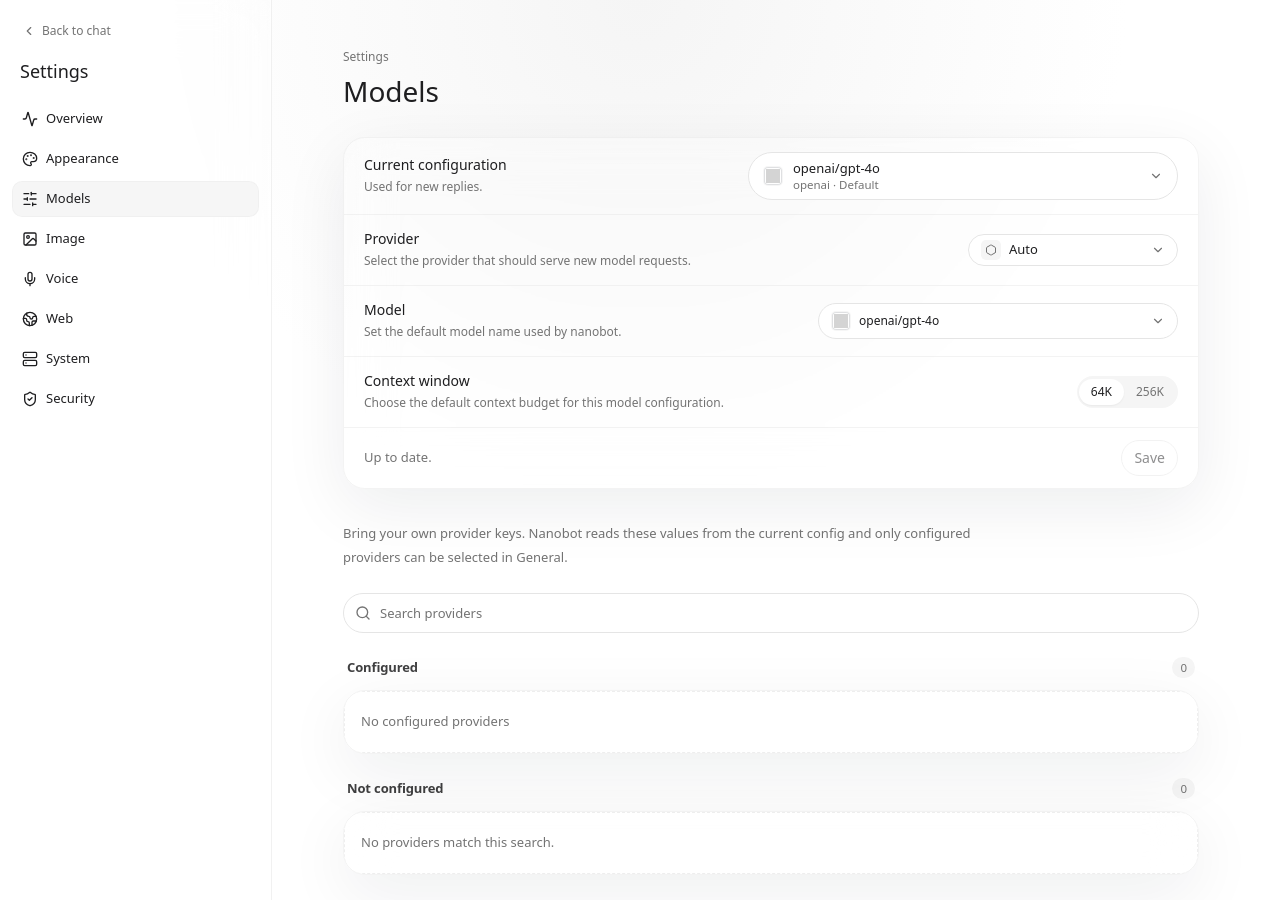
it: SettingsView Apps catalog › can close the new configuration dialog without trapping the settings page
Step 1. Press the mouse on the button with aria-label "Current configuration" → [836, 168], box x1=748 y1=152 x2=1178 y2=200
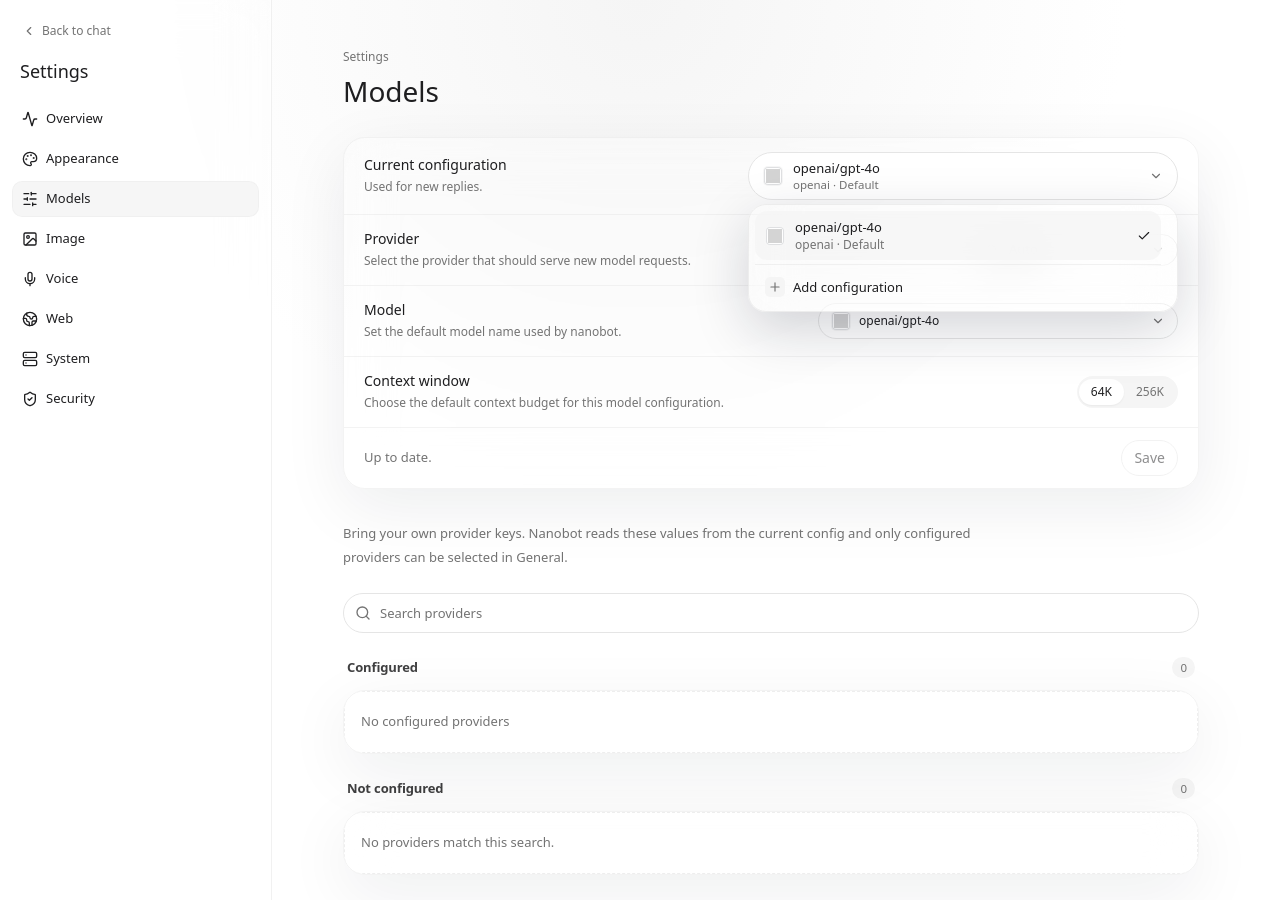
Step 2. Click the menu item "Add configuration" → [834, 287], box x1=765 y1=277 x2=903 y2=297
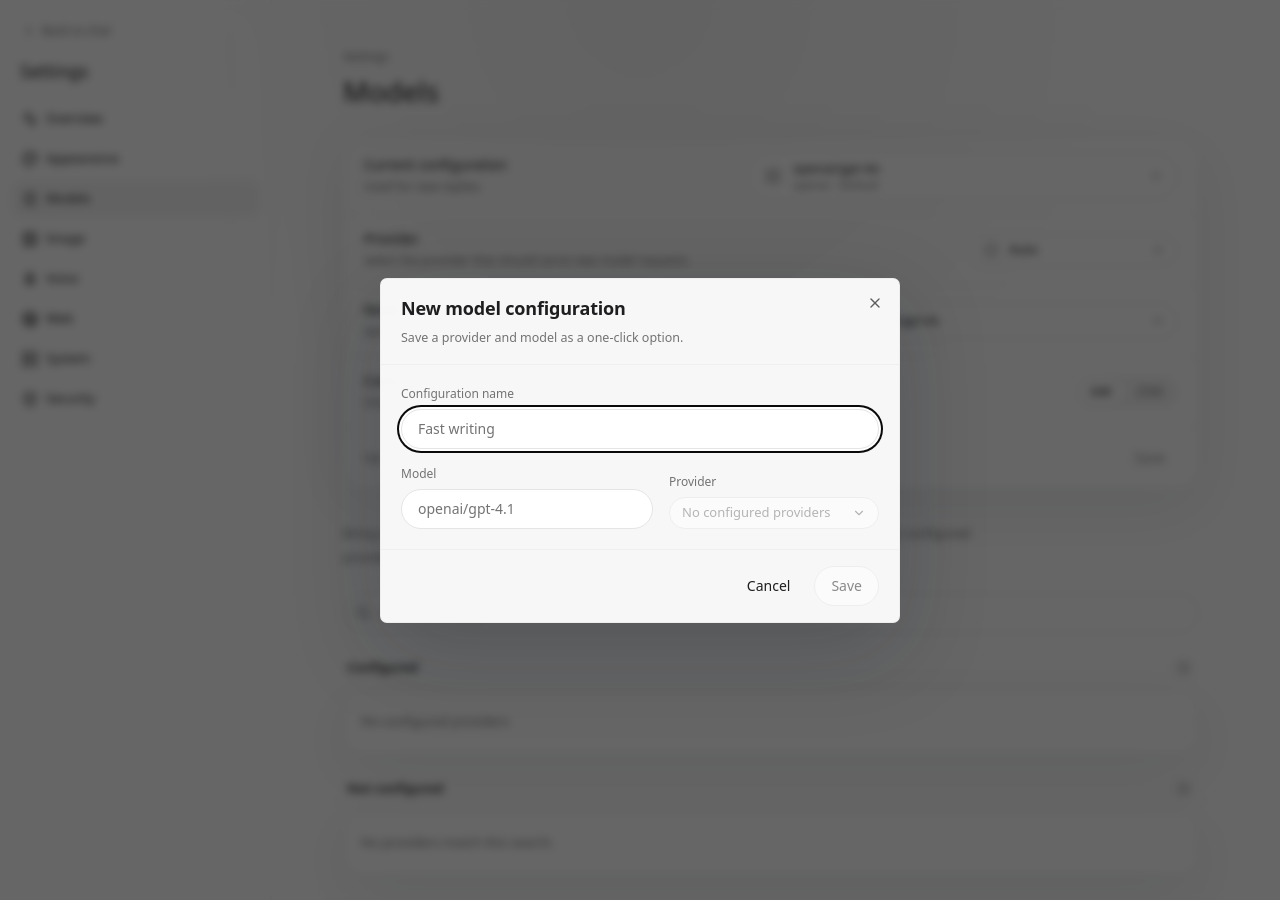
expect the heading "New model configuration" is shown: met, box x1=401 y1=296 x2=626 y2=320
Step 3. Click the button "Cancel" → [769, 586], box x1=731 y1=566 x2=806 y2=606
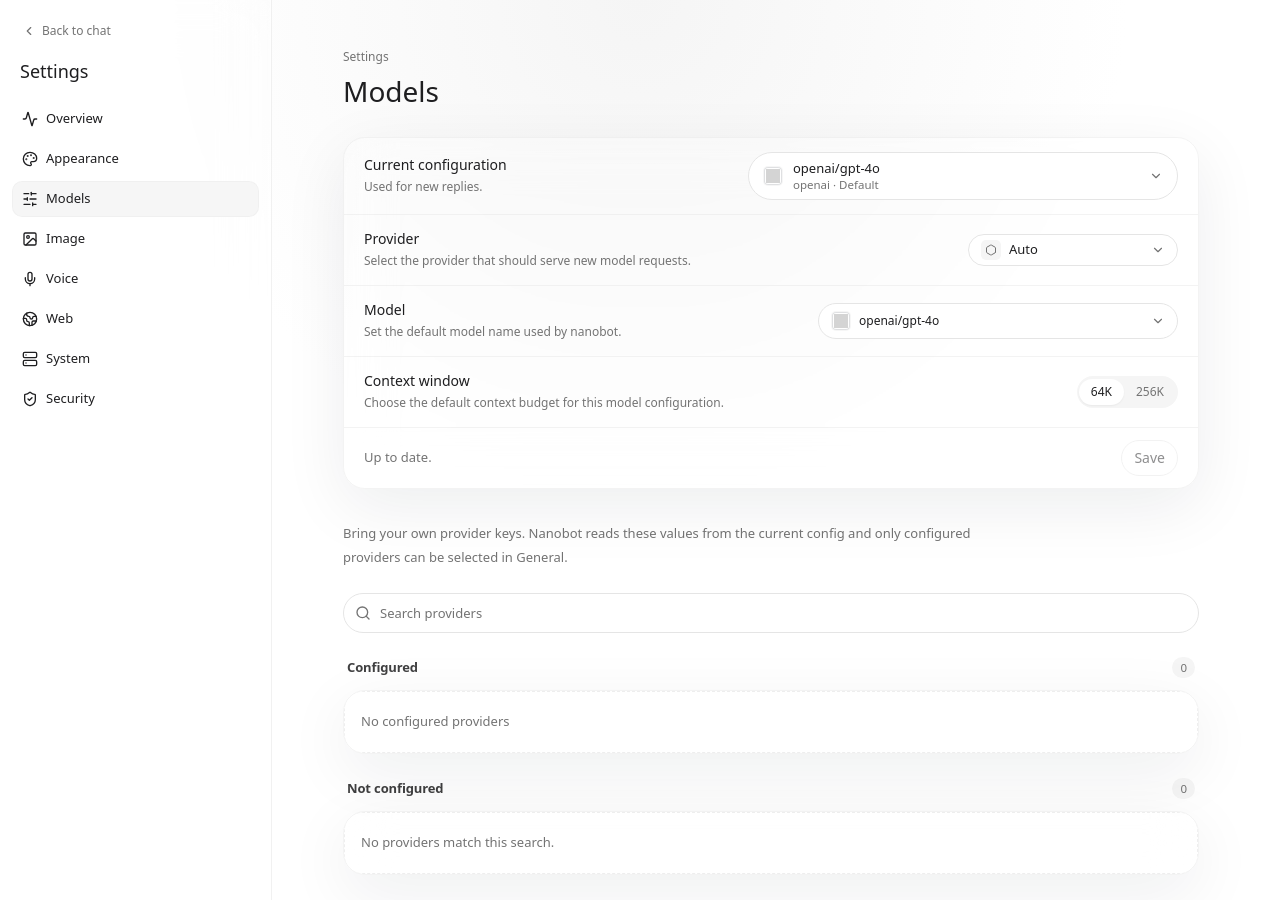
expect the heading "New model configuration" is gone: met
Step 4. Press the mouse on the button with aria-label "Current configuration" → [836, 168], box x1=748 y1=152 x2=1178 y2=200
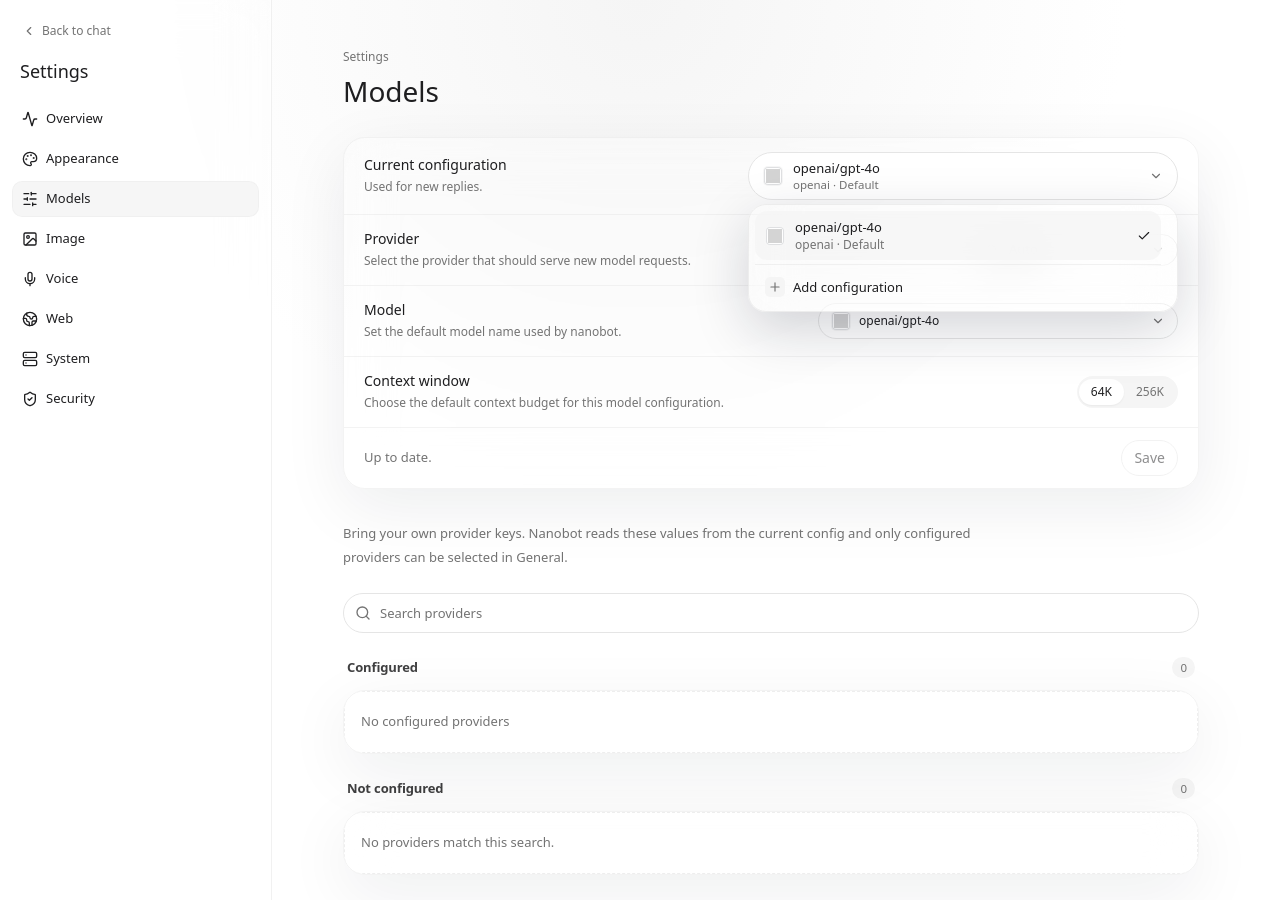
expect the text "Add configuration" is shown: met, box x1=793 y1=278 x2=903 y2=297
